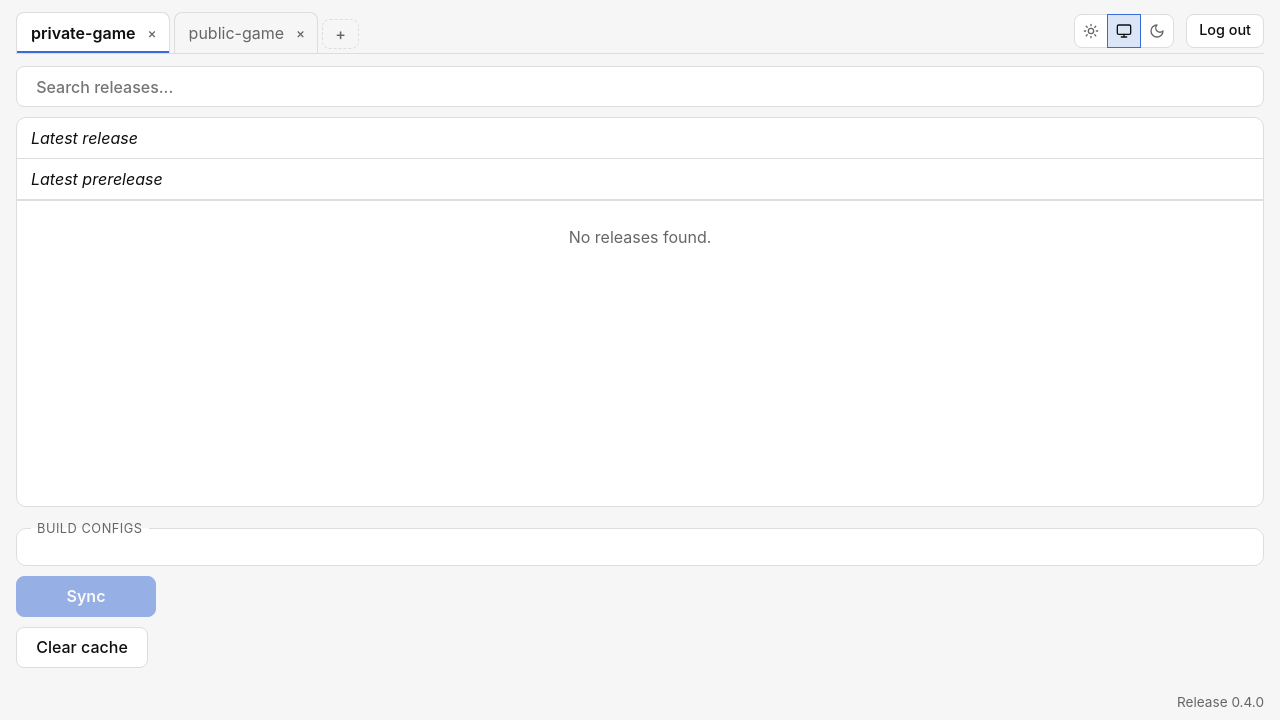
Scenario: App › logging out removes account-bound tabs, keeps URL-bound ones, and shows Log in
Click the button "Log out".
click(1225, 30)  # box x1=1186 y1=14 x2=1264 y2=48
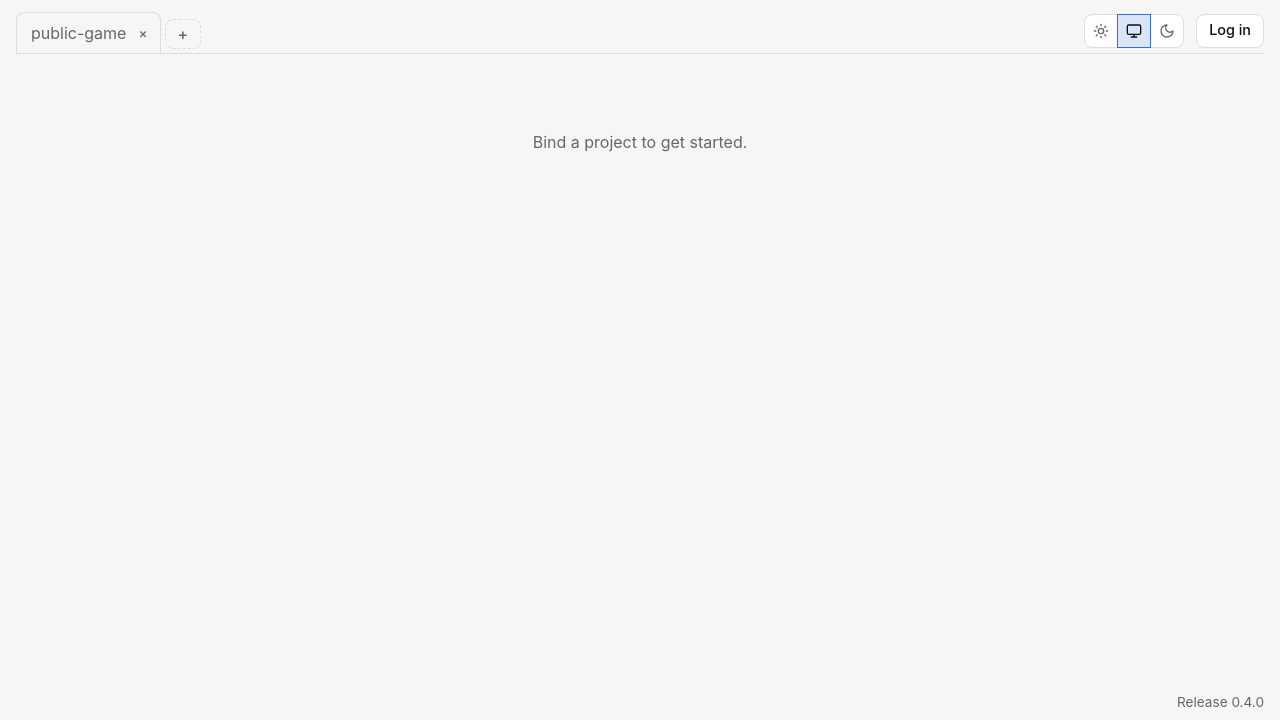
Expected: the tab shows "public-game", x1=16 y1=12 x2=160 y2=53
Expected: the button "Log in" is shown, x1=1196 y1=14 x2=1264 y2=48
Expected: the number of tabs is 1, x1=16 y1=12 x2=160 y2=53
